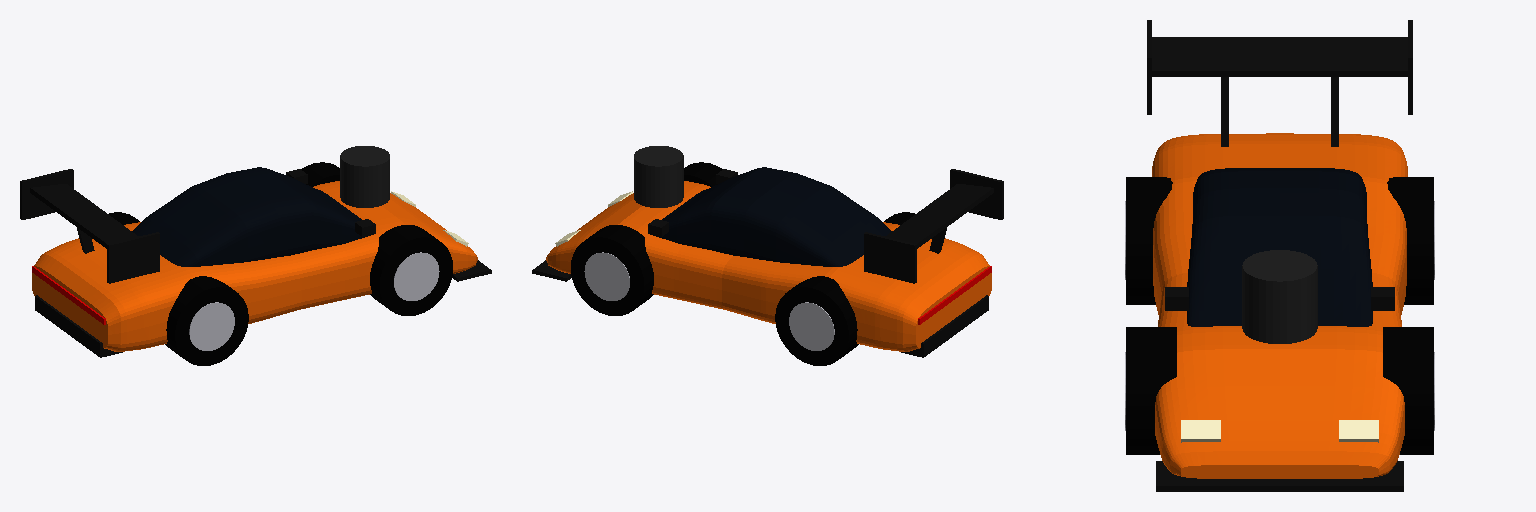
The robot description file, URDF, robot "car":
<?xml version="1.0"?>
<robot name="car">

  <!-- GT3-style body, 0.33 m long x 0.13 m wide.
       base_link is the front (steering) axle on the ground, where the LiDAR is
       mounted and the point /pose refers to. Wheelbase 0.18 m, track 0.13 m.
       The body meshes come from meshes/generate_gt3_meshes.py
       (front overhang 0.07 m, rear overhang 0.08 m). -->

  <material name="paint">
    <color rgba="0.95 0.42 0.05 1.0"/>
  </material>
  <material name="glass">
    <color rgba="0.05 0.07 0.10 1.0"/>
  </material>
  <material name="carbon">
    <color rgba="0.08 0.08 0.08 1.0"/>
  </material>
  <material name="tyre">
    <color rgba="0.03 0.03 0.03 1.0"/>
  </material>
  <material name="rim">
    <color rgba="0.75 0.75 0.78 1.0"/>
  </material>
  <material name="headlight">
    <color rgba="1.0 0.97 0.80 1.0"/>
  </material>
  <material name="taillight">
    <color rgba="0.90 0.02 0.02 1.0"/>
  </material>
  <material name="lidar_body">
    <color rgba="0.15 0.15 0.15 1.0"/>
  </material>

  <link name="base_link">
    <!-- body and greenhouse -->
    <visual>
      <geometry>
        <mesh filename="package://car_simulator/meshes/gt3_body.stl"/>
      </geometry>
      <material name="paint"/>
    </visual>
    <visual>
      <geometry>
        <mesh filename="package://car_simulator/meshes/gt3_cabin.stl"/>
      </geometry>
      <material name="glass"/>
    </visual>

    <!-- rear wing: main plane, end plates and swan-neck uprights -->
    <visual>
      <origin xyz="-0.242 0 0.106" rpy="0 0.12 0"/>
      <geometry>
        <box size="0.032 0.130 0.004"/>
      </geometry>
      <material name="carbon"/>
    </visual>
    <visual>
      <origin xyz="-0.242 0.066 0.100" rpy="0 0 0"/>
      <geometry>
        <box size="0.045 0.003 0.032"/>
      </geometry>
      <material name="carbon"/>
    </visual>
    <visual>
      <origin xyz="-0.242 -0.066 0.100" rpy="0 0 0"/>
      <geometry>
        <box size="0.045 0.003 0.032"/>
      </geometry>
      <material name="carbon"/>
    </visual>
    <visual>
      <origin xyz="-0.232 0.028 0.083" rpy="0 -0.25 0"/>
      <geometry>
        <box size="0.008 0.004 0.046"/>
      </geometry>
      <material name="carbon"/>
    </visual>
    <visual>
      <origin xyz="-0.232 -0.028 0.083" rpy="0 -0.25 0"/>
      <geometry>
        <box size="0.008 0.004 0.046"/>
      </geometry>
      <material name="carbon"/>
    </visual>

    <!-- front splitter and rear diffuser -->
    <visual>
      <origin xyz="0.060 0 0.013" rpy="0 0 0"/>
      <geometry>
        <box size="0.030 0.125 0.003"/>
      </geometry>
      <material name="carbon"/>
    </visual>
    <visual>
      <origin xyz="-0.252 0 0.020" rpy="0 0 0"/>
      <geometry>
        <box size="0.020 0.100 0.012"/>
      </geometry>
      <material name="carbon"/>
    </visual>

    <!-- mirrors -->
    <visual>
      <origin xyz="-0.030 0.052 0.070" rpy="0 0 0"/>
      <geometry>
        <box size="0.012 0.012 0.008"/>
      </geometry>
      <material name="carbon"/>
    </visual>
    <visual>
      <origin xyz="-0.030 -0.052 0.070" rpy="0 0 0"/>
      <geometry>
        <box size="0.012 0.012 0.008"/>
      </geometry>
      <material name="carbon"/>
    </visual>

    <!-- head lights and light bar at the back -->
    <visual>
      <origin xyz="0.056 0.040 0.036" rpy="0 0.5 0"/>
      <geometry>
        <box size="0.012 0.020 0.004"/>
      </geometry>
      <material name="headlight"/>
    </visual>
    <visual>
      <origin xyz="0.056 -0.040 0.036" rpy="0 0.5 0"/>
      <geometry>
        <box size="0.012 0.020 0.004"/>
      </geometry>
      <material name="headlight"/>
    </visual>
    <visual>
      <origin xyz="-0.2595 0 0.046" rpy="0 0 0"/>
      <geometry>
        <box size="0.004 0.110 0.005"/>
      </geometry>
      <material name="taillight"/>
    </visual>

    <collision>
      <origin xyz="-0.095 0 0.040" rpy="0 0 0"/>
      <geometry>
        <box size="0.33 0.13 0.06"/>
      </geometry>
    </collision>
  </link>

  <!-- LiDAR over the front axle = base_link origin = /pose point -->
  <link name="ldlidar_base">
    <visual>
      <geometry>
        <cylinder radius="0.019" length="0.035"/>
      </geometry>
      <material name="lidar_body"/>
    </visual>
  </link>

  <joint name="lidar_mount_joint" type="fixed">
    <parent link="base_link"/>
    <child link="ldlidar_base"/>
    <origin xyz="0 0 0.085" rpy="0 0 0"/>
  </joint>

  <!-- Wheels: 0.065 m diameter. Front ones steer (joint_states from
       car_simulator_node), rear ones are fixed. -->
  <link name="front_left_wheel">
    <visual>
      <origin rpy="1.5708 0 0"/>
      <geometry><cylinder radius="0.0325" length="0.026"/></geometry>
      <material name="tyre"/>
    </visual>
    <visual>
      <origin rpy="1.5708 0 0"/>
      <geometry><cylinder radius="0.020" length="0.027"/></geometry>
      <material name="rim"/>
    </visual>
  </link>
  <link name="front_right_wheel">
    <visual>
      <origin rpy="1.5708 0 0"/>
      <geometry><cylinder radius="0.0325" length="0.026"/></geometry>
      <material name="tyre"/>
    </visual>
    <visual>
      <origin rpy="1.5708 0 0"/>
      <geometry><cylinder radius="0.020" length="0.027"/></geometry>
      <material name="rim"/>
    </visual>
  </link>
  <link name="rear_left_wheel">
    <visual>
      <origin rpy="1.5708 0 0"/>
      <geometry><cylinder radius="0.0325" length="0.026"/></geometry>
      <material name="tyre"/>
    </visual>
    <visual>
      <origin rpy="1.5708 0 0"/>
      <geometry><cylinder radius="0.020" length="0.027"/></geometry>
      <material name="rim"/>
    </visual>
  </link>
  <link name="rear_right_wheel">
    <visual>
      <origin rpy="1.5708 0 0"/>
      <geometry><cylinder radius="0.0325" length="0.026"/></geometry>
      <material name="tyre"/>
    </visual>
    <visual>
      <origin rpy="1.5708 0 0"/>
      <geometry><cylinder radius="0.020" length="0.027"/></geometry>
      <material name="rim"/>
    </visual>
  </link>

  <joint name="front_left_steer_joint" type="revolute">
    <parent link="base_link"/>
    <child link="front_left_wheel"/>
    <origin xyz="0 0.065 0.0325" rpy="0 0 0"/>
    <axis xyz="0 0 1"/>
    <limit lower="-0.4062" upper="0.4062" effort="1.0" velocity="10.0"/>
  </joint>
  <joint name="front_right_steer_joint" type="revolute">
    <parent link="base_link"/>
    <child link="front_right_wheel"/>
    <origin xyz="0 -0.065 0.0325" rpy="0 0 0"/>
    <axis xyz="0 0 1"/>
    <limit lower="-0.4062" upper="0.4062" effort="1.0" velocity="10.0"/>
  </joint>
  <joint name="rear_left_wheel_joint" type="fixed">
    <parent link="base_link"/>
    <child link="rear_left_wheel"/>
    <origin xyz="-0.18 0.065 0.0325" rpy="0 0 0"/>
  </joint>
  <joint name="rear_right_wheel_joint" type="fixed">
    <parent link="base_link"/>
    <child link="rear_right_wheel"/>
    <origin xyz="-0.18 -0.065 0.0325" rpy="0 0 0"/>
  </joint>

</robot>

--- What the picture shows (computed from the rendered views, not written in the file) ---
The picture shows the robot from 3 angles, left to right: view 1: azimuth 30°, elevation 25°; view 2: azimuth 150°, elevation 25°; view 3: azimuth 270°, elevation 25°; orthographic projection.
Model car with 6 links and 5 joints (2 revolute, 3 fixed), rooted at base_link, posed every joint at zero.
Links seen in each view (by area): view 1: base_link, front_right_wheel, rear_right_wheel, ldlidar_base, front_left_wheel; view 2: base_link, front_left_wheel, rear_left_wheel, ldlidar_base, front_right_wheel; view 3: base_link, ldlidar_base, front_left_wheel, front_right_wheel, rear_left_wheel, rear_right_wheel.
Boxes of the visible links, x1=… form: base_link: x1=20, y1=167, x2=491, y2=357; front_right_wheel: x1=370, y1=225, x2=452, y2=315; rear_right_wheel: x1=165, y1=276, x2=248, y2=365; ldlidar_base: x1=340, y1=146, x2=389, y2=207; front_left_wheel: x1=301, y1=162, x2=339, y2=186; base_link: x1=532, y1=167, x2=1003, y2=357; front_left_wheel: x1=571, y1=225, x2=653, y2=315; rear_left_wheel: x1=775, y1=276, x2=858, y2=365; ldlidar_base: x1=634, y1=146, x2=683, y2=207; front_right_wheel: x1=684, y1=162, x2=722, y2=186; base_link: x1=1147, y1=20, x2=1412, y2=491; ldlidar_base: x1=1242, y1=250, x2=1317, y2=343; front_left_wheel: x1=1383, y1=327, x2=1434, y2=454; front_right_wheel: x1=1125, y1=327, x2=1176, y2=454; rear_left_wheel: x1=1387, y1=177, x2=1434, y2=304; rear_right_wheel: x1=1125, y1=177, x2=1172, y2=304.
Bounding box of the posed robot: 0.3395 × 0.157 × 0.116 m (x, y, z).
Meshes: 2 distinct files referenced, 2 mesh visuals loaded (2 binary STL).
